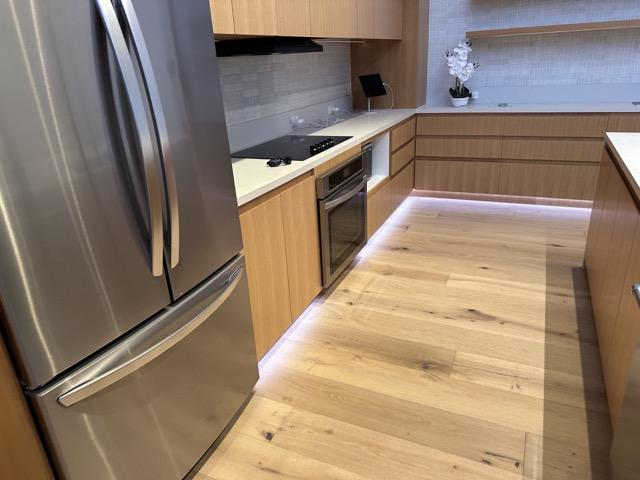Sunglasses: (266, 155, 292, 169)
